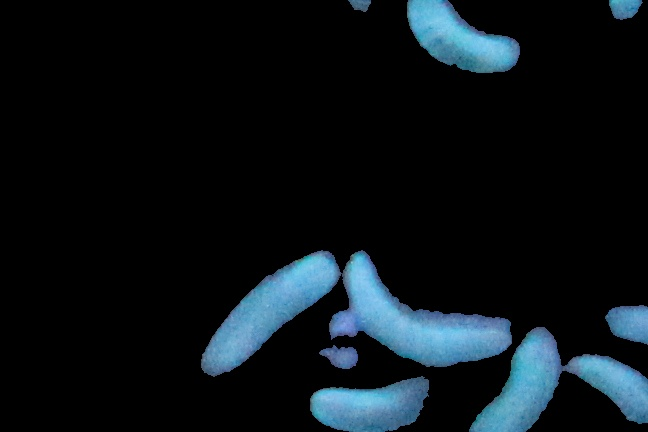larvae: (200, 252, 339, 380), (347, 256, 508, 363), (476, 315, 563, 432), (407, 1, 518, 74), (313, 371, 430, 432), (562, 347, 648, 425)
